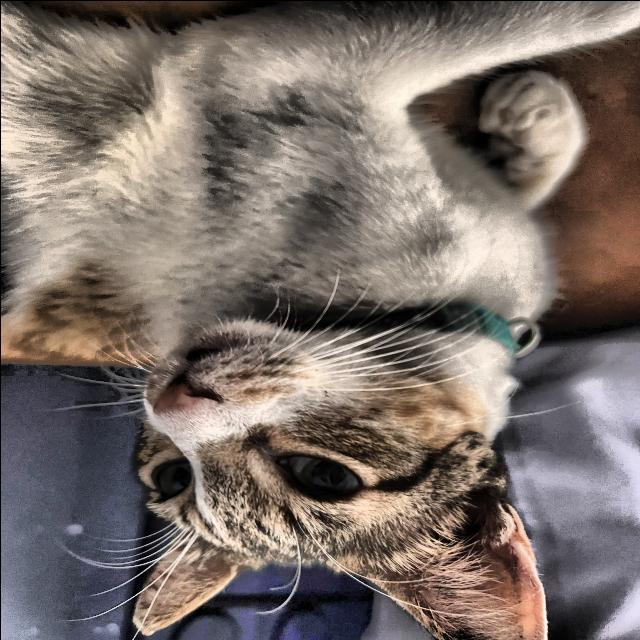Healthy skin: (131, 505, 553, 640), (129, 235, 327, 444), (52, 78, 202, 154)
